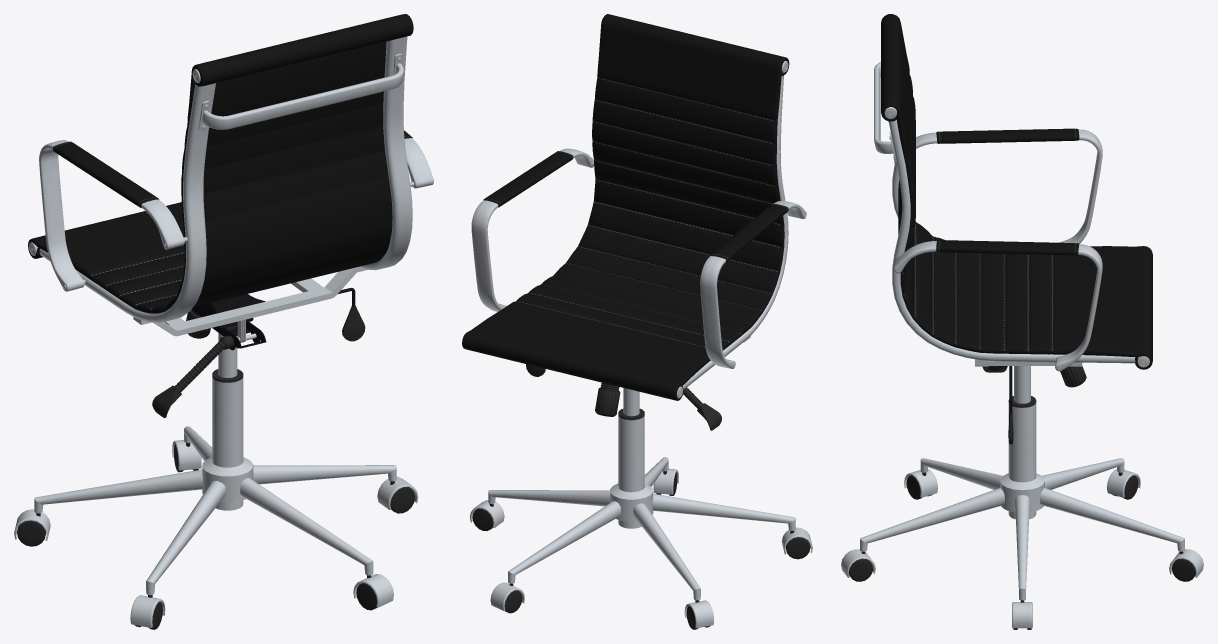
File: chair.glb
The picture shows the model from 3 angles, left to right: view 1: azimuth 30°, elevation 25°; view 2: azimuth 150°, elevation 25°; view 3: azimuth 270°, elevation 25°; orthographic projection. The views are drawn at different scales.
Visible parts, largest first — view 1: office_chair_Material_0; view 2: office_chair_Material_0; view 3: office_chair_Material_0.
Part boxes in pixels (bbox=[...]): office_chair_Material_0: bbox=[14, 14, 433, 629]; office_chair_Material_0: bbox=[462, 14, 812, 629]; office_chair_Material_0: bbox=[841, 14, 1203, 629].
Size of the model in its own units: 56.69 by 90.06 by 59.6.
1 material, 1 textured.
